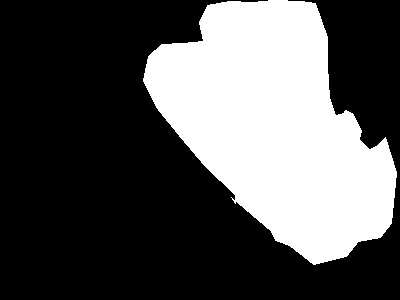Fire: (179, 1, 394, 268)
